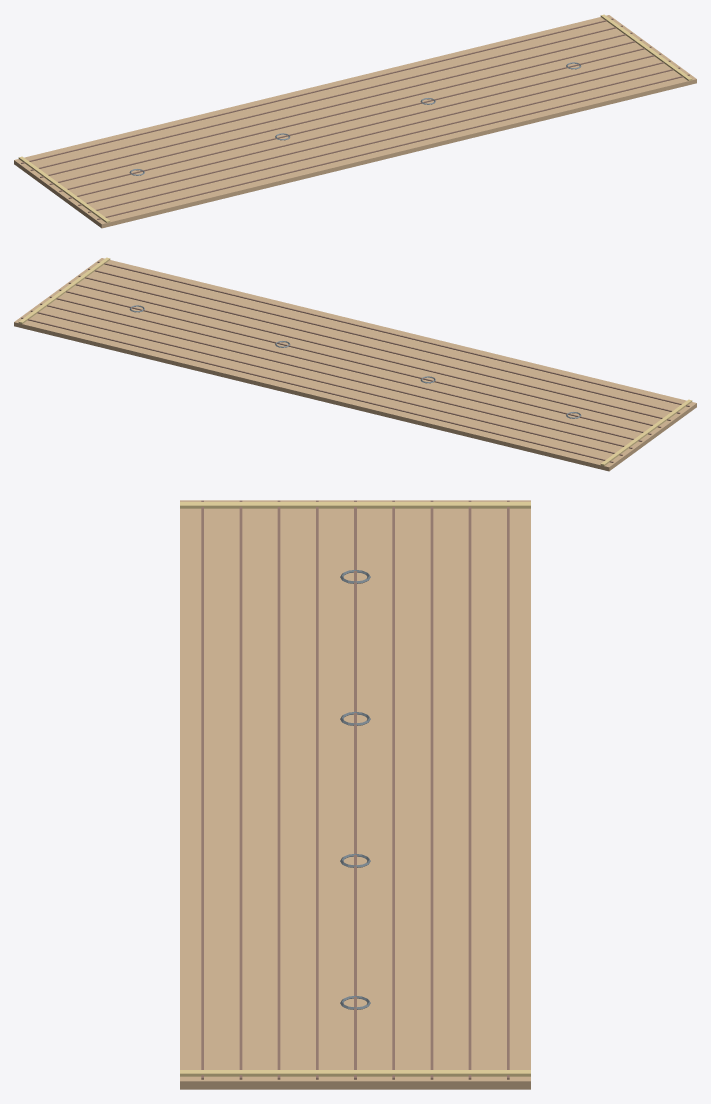
Rendered from cubierta.glb.
The picture shows the model from 3 angles, top to bottom: view 1: azimuth 30°, elevation 25°; view 2: azimuth 150°, elevation 25°; view 3: azimuth 270°, elevation 25°; orthographic projection. The views are drawn at different scales.
Visible parts, largest first — view 1: cubierta; view 2: cubierta; view 3: cubierta.
Part boxes in pixels (x1,y1,x2,y2): cubierta: (14, 14, 696, 228); cubierta: (14, 257, 696, 471); cubierta: (180, 500, 530, 1089).
Bounding box in the file's own units: 18 × 0.165 × 4.6.
